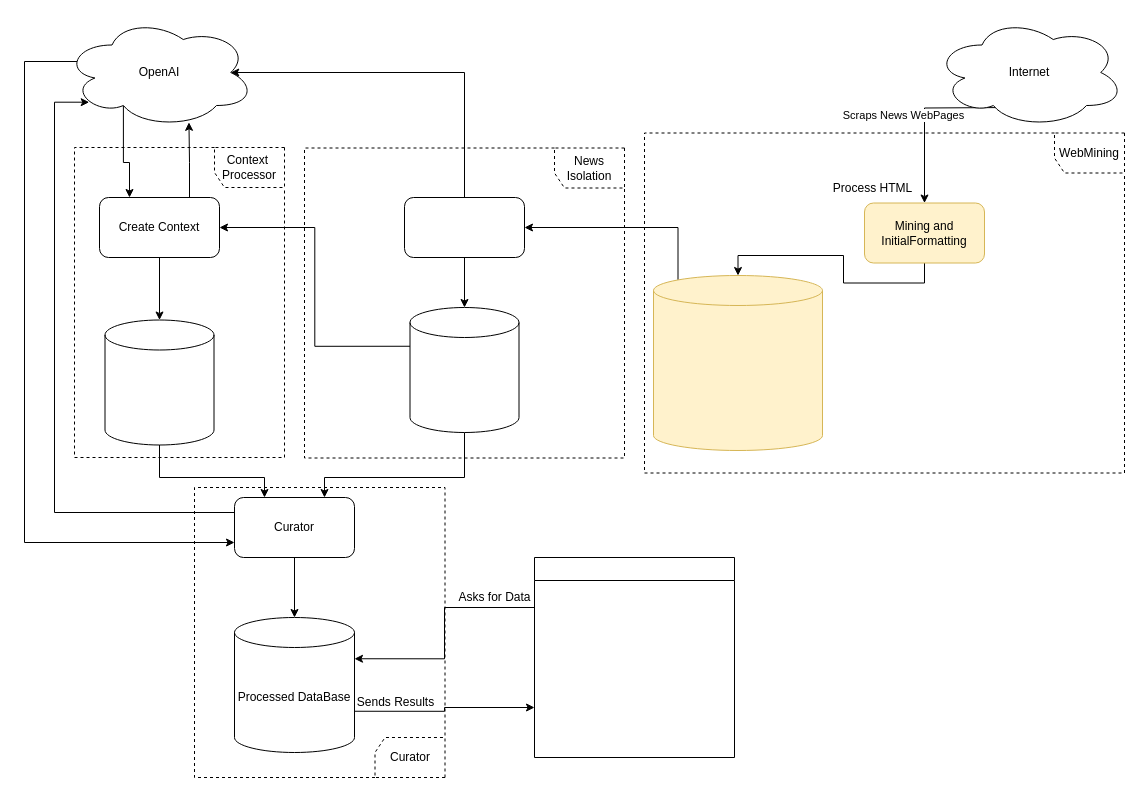
This 1142x795 diagram has some shape labels left out. Here are the shapes that lost their labels. From the top down, the centre of each, then its label:
At point 464,227: "Isolate News from Raw Data".
At point 159,382: "Context Collection".
At point 464,369: "News Collection".
At point 737,362: "DataLake".
At point 634,657: "User Interface".
